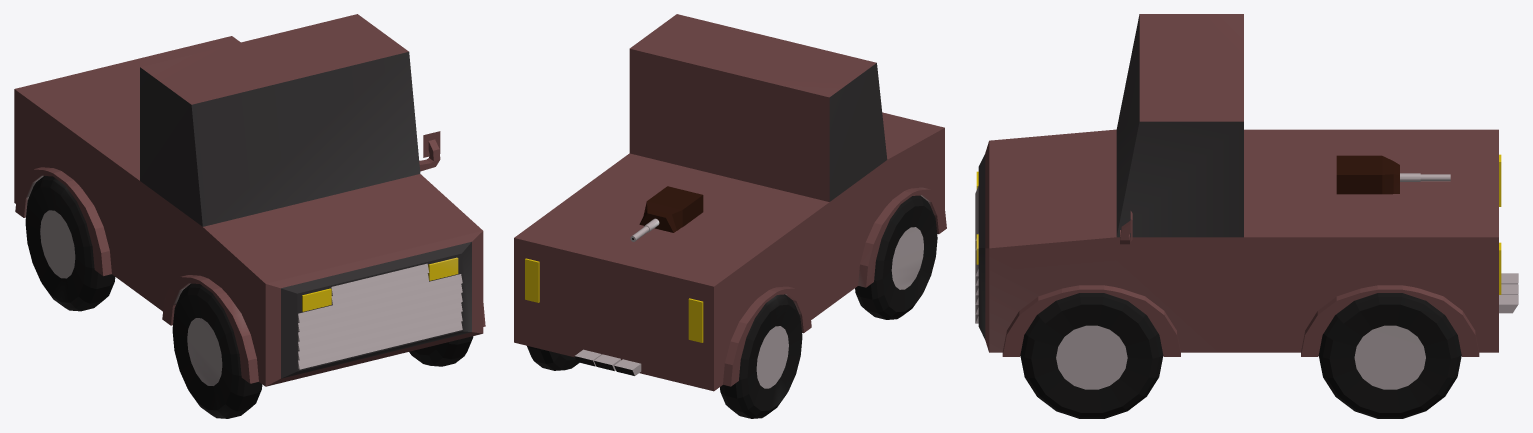
File: carro_boss.fbx
3 renders of one model, left to right at view 1: azimuth 30°, elevation 25°; view 2: azimuth 150°, elevation 25°; view 3: azimuth 270°, elevation 25°, orthographic. The views are drawn at different scales.
Visible parts, largest first — view 1: carro_boss; view 2: carro_boss; view 3: carro_boss.
Part boxes in pixels (left/top/right/bottom): carro_boss: left=14, top=14, right=485, bottom=418; carro_boss: left=514, top=14, right=946, bottom=418; carro_boss: left=975, top=14, right=1518, bottom=418.
Bounding box in the file's own units: 181 × 195 × 326.
